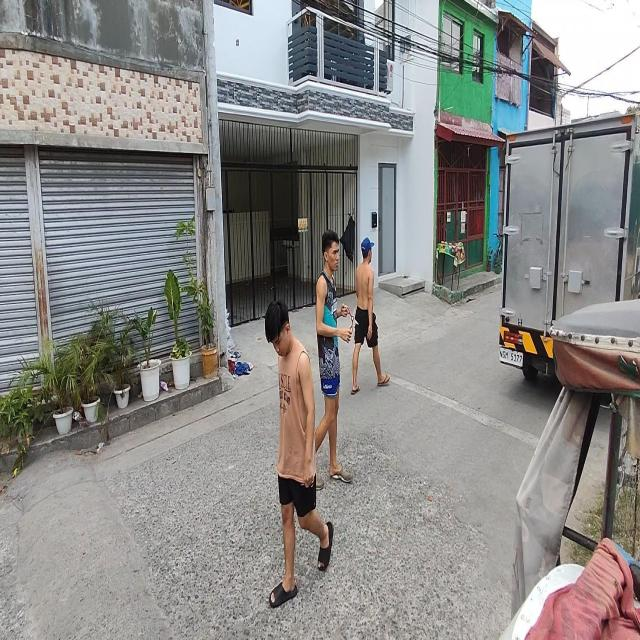scissor: (346, 307, 359, 335)
